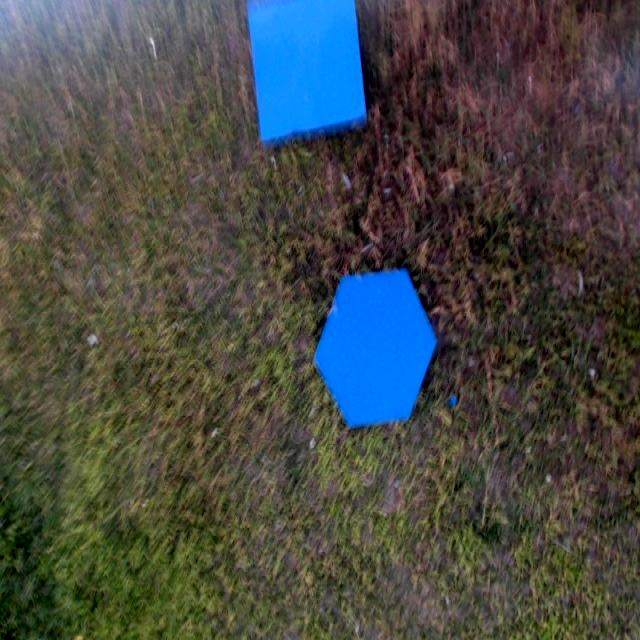blue_hexagon: (314, 271, 434, 434)
